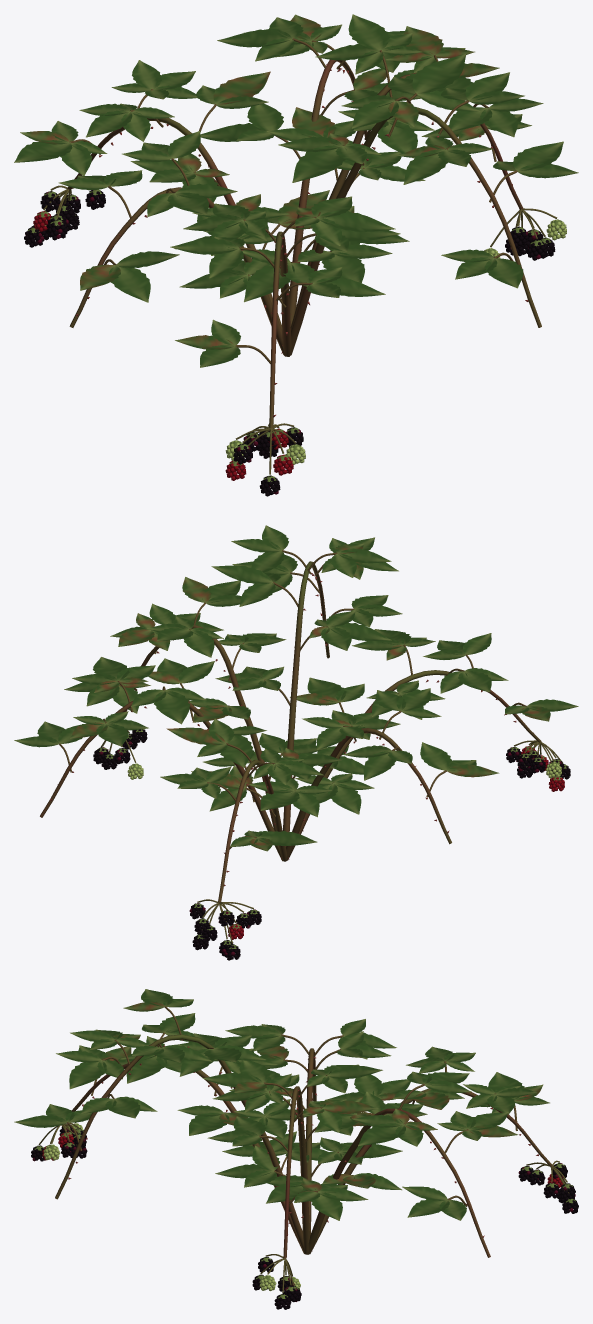
Rendered from berries.glb.
3 renders of one model, top to bottom at view 1: azimuth 30°, elevation 25°; view 2: azimuth 150°, elevation 25°; view 3: azimuth 270°, elevation 25°, orthographic. The views are drawn at different scales.
Visible parts, largest first — view 1: berries_bramble_leaf, berries_bramble_cane, berries_blackberry, berries_sepal; view 2: berries_bramble_leaf, berries_bramble_cane, berries_blackberry, berries_sepal; view 3: berries_bramble_leaf, berries_bramble_cane, berries_blackberry, berries_sepal.
Boxes of the visible parts, x1,y1,x2,y2 form: berries_bramble_leaf: (14,14,578,367); berries_bramble_cane: (33,38,557,474); berries_blackberry: (24,190,566,496); berries_sepal: (27,189,562,481); berries_bramble_leaf: (14,525,578,851); berries_bramble_cane: (40,550,562,943); berries_blackberry: (93,729,570,960); berries_sepal: (97,729,567,948); berries_bramble_leaf: (14,989,549,1220); berries_bramble_cane: (38,1006,569,1292); berries_blackberry: (31,1123,578,1309); berries_sepal: (34,1123,575,1298).
Size of the model in its own units: 0.6809 by 0.4149 by 0.8291.
